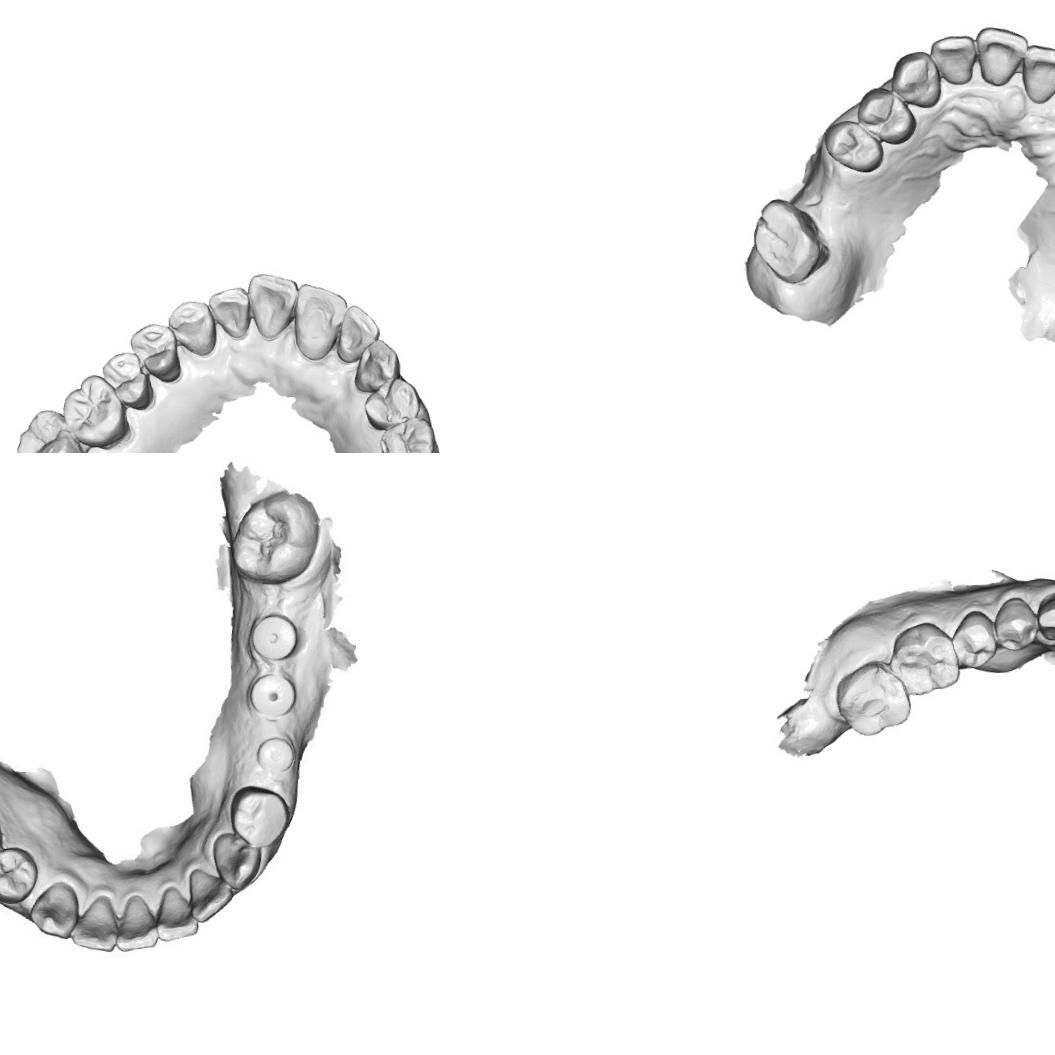canine: (210, 829, 264, 892), (888, 48, 942, 110), (164, 298, 218, 358), (350, 334, 402, 394), (28, 880, 77, 938), (1032, 587, 1055, 642)
implant: (248, 611, 306, 665), (246, 666, 299, 723), (249, 731, 301, 777)
incisor: (289, 280, 352, 363), (244, 269, 300, 341), (972, 23, 1030, 88), (331, 302, 381, 364), (187, 864, 236, 924), (69, 898, 119, 956), (929, 32, 978, 88), (204, 284, 252, 340), (154, 885, 200, 943), (112, 896, 159, 952), (1018, 40, 1055, 105)
molar: (224, 490, 327, 590), (748, 194, 829, 286), (833, 656, 914, 737), (886, 618, 962, 697), (59, 370, 128, 450), (13, 405, 83, 453)
premolar: (853, 84, 918, 148), (226, 782, 288, 845), (820, 117, 885, 176), (359, 373, 422, 430), (98, 350, 153, 412), (947, 606, 1000, 670), (126, 320, 180, 380), (991, 594, 1040, 652), (375, 412, 436, 453), (0, 843, 38, 906)
